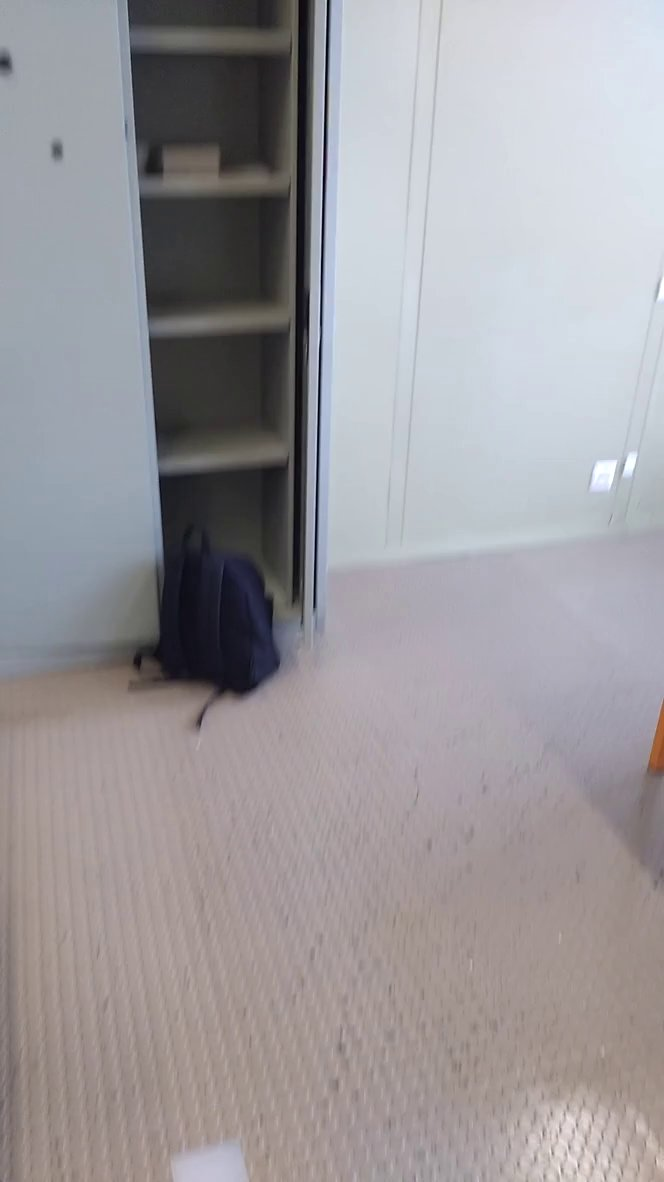bag: (144, 508, 291, 704)
